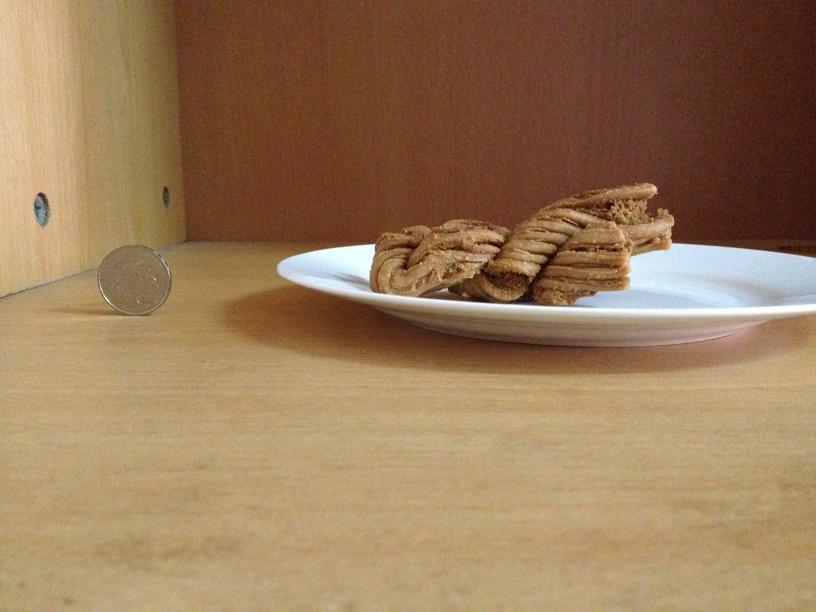coin: (95, 245, 172, 315)
fired_dough_twist: (373, 181, 674, 301)
